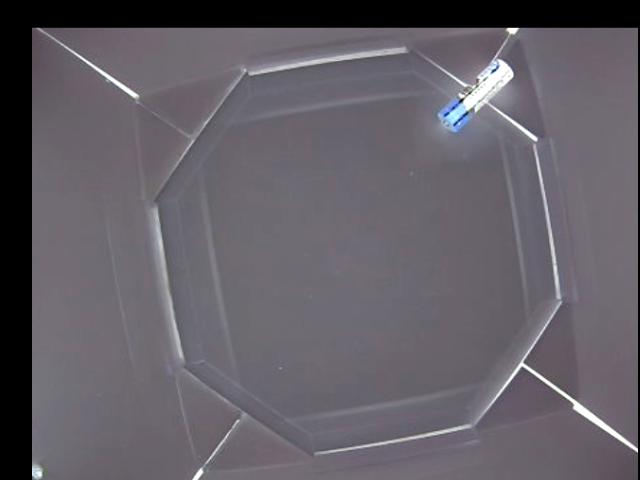Battery: (438, 57, 514, 131)
